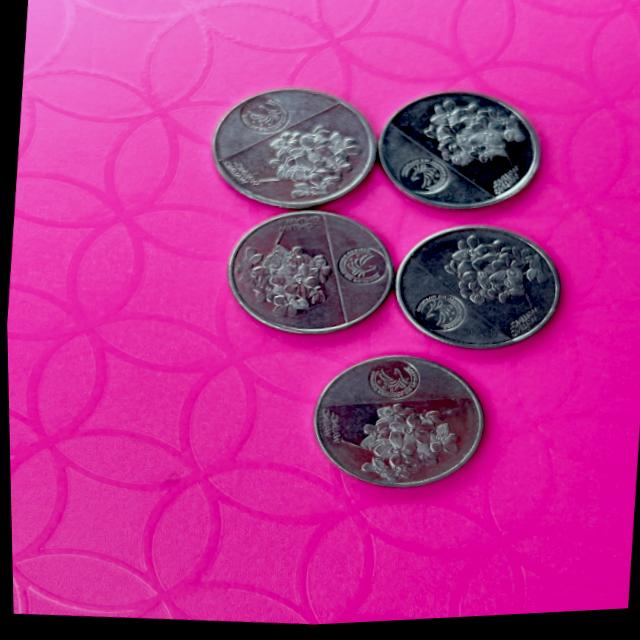1_New_Back: (341, 394, 468, 497), (235, 121, 367, 211), (222, 240, 330, 332), (434, 236, 551, 320), (409, 100, 524, 183)
